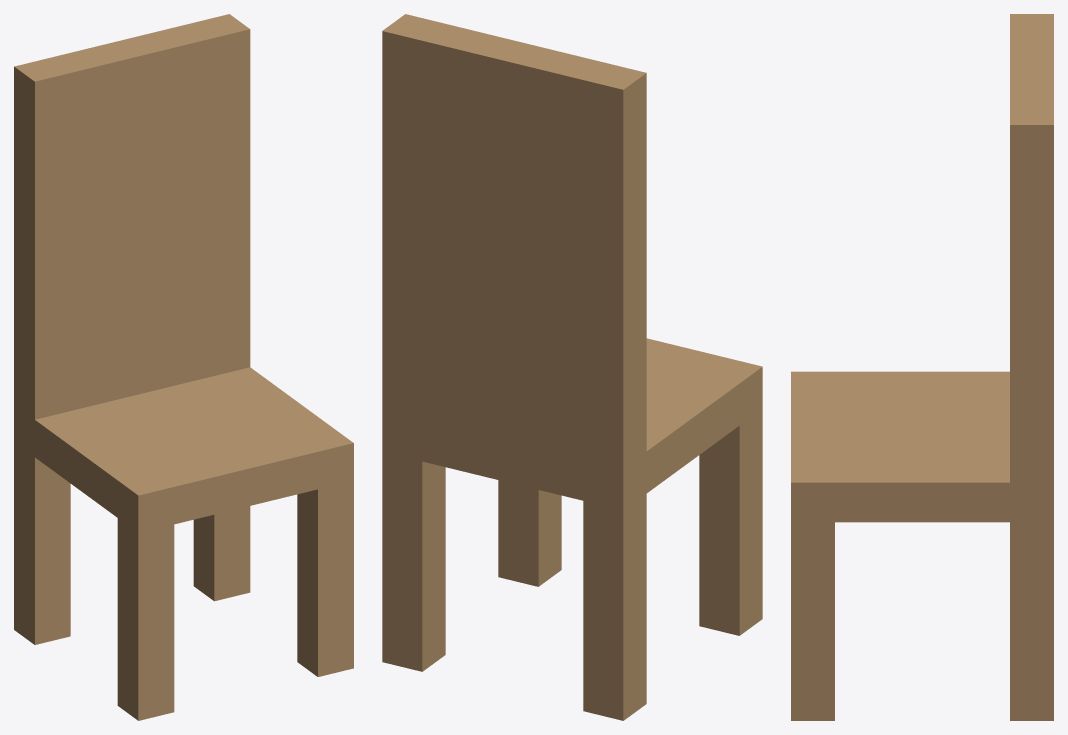
File: Chair.glb
3 views of the same model, side by side, from view 1: azimuth 30°, elevation 25°; view 2: azimuth 150°, elevation 25°; view 3: azimuth 270°, elevation 25° (orthographic). The views are drawn at different scales.
Parts seen in each view (by area): view 1: filler_Chair; view 2: filler_Chair; view 3: filler_Chair.
Part boxes in pixels (x1,y1,x2,y2): filler_Chair: (14,14,353,720); filler_Chair: (382,14,762,720); filler_Chair: (791,14,1053,720).
Bounding box in the file's own units: 0.48 × 1.2 × 0.48.
